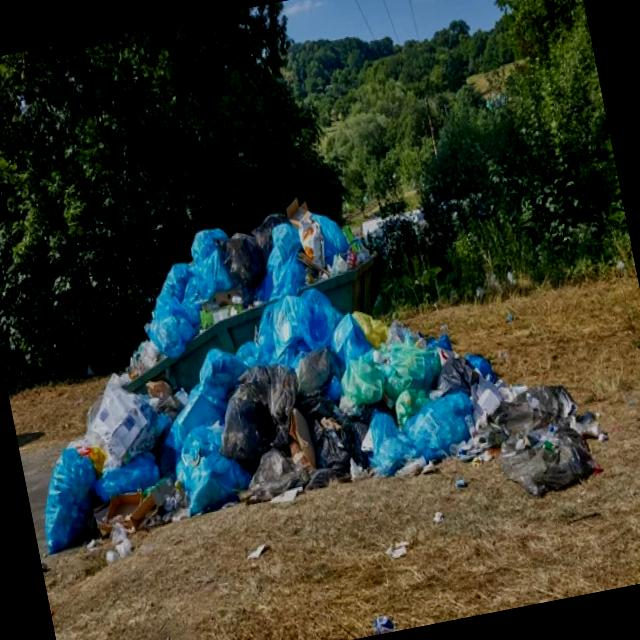garbage: (22, 238, 585, 640)
